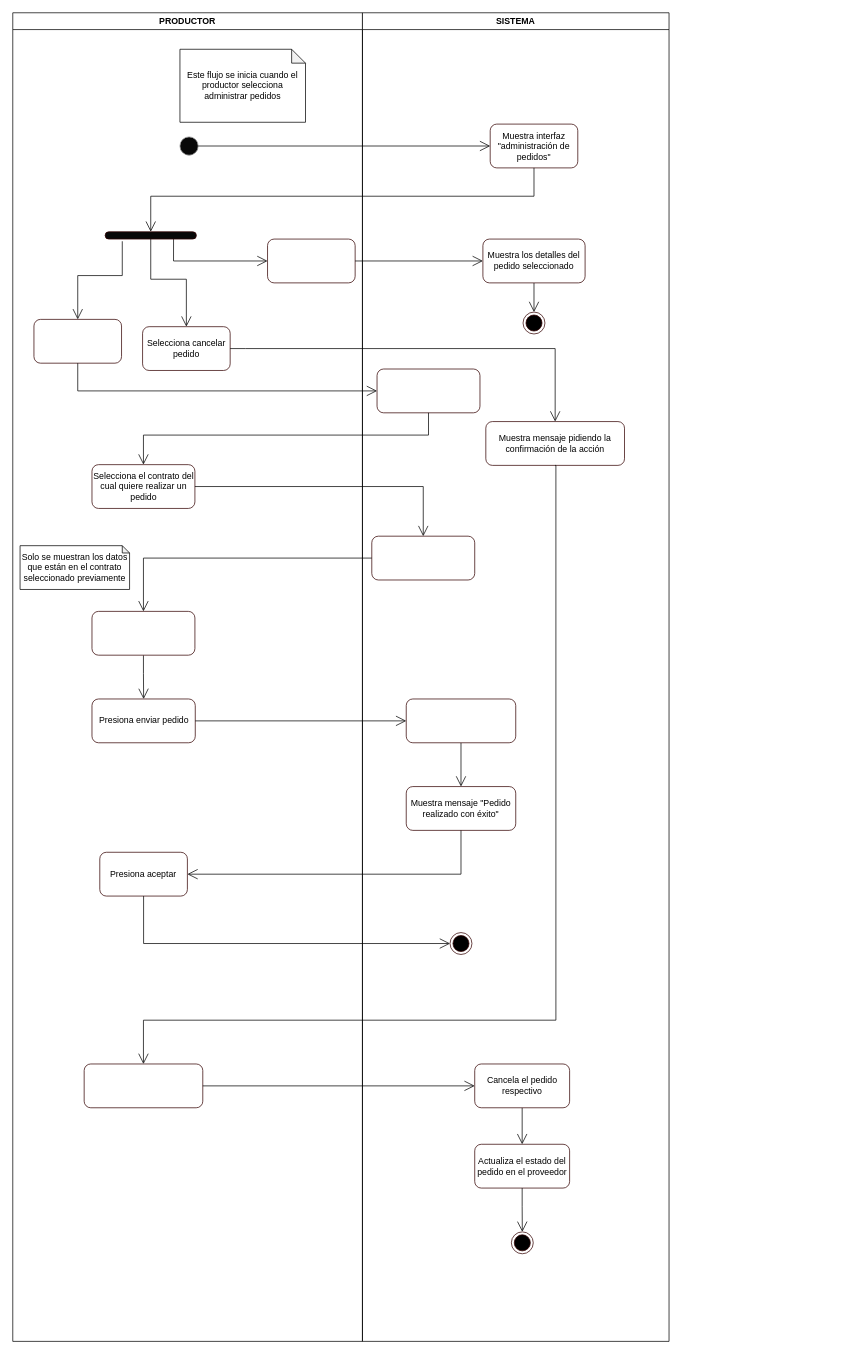
Some shapes in this 864 by 1354 pixel diagram are drawn without their labels. The centre of each missing label's shape, as x and y in pixels:
Confirma la realización de la acción: [143,1085]
Envía una petición de pedido al proveedor respectivo: [461,720]
Muestra interfaz "formulario datos de pedidos": [423,557]
Muestra lista de contratos activos del proveedor: [428,390]
Selecciona crear pedido: [77,341]
Selecciona datos: [143,633]
Selecciona ver detalle de pedido: [311,260]
